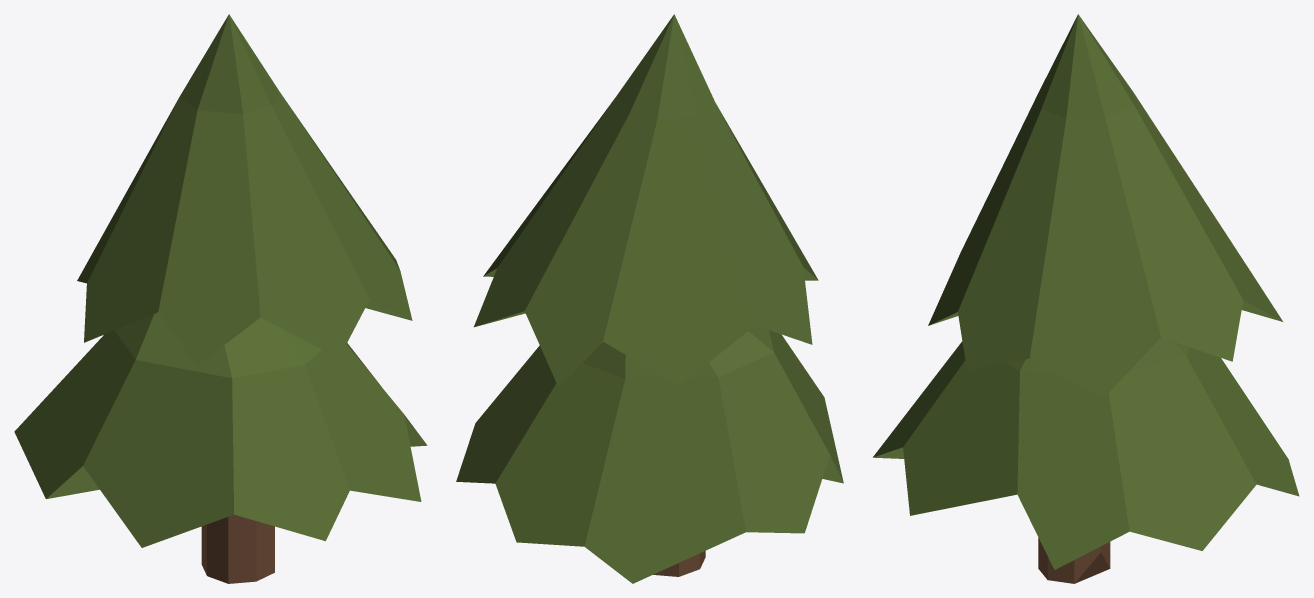
File: tree_coniferous_03.glb
The picture shows the model from 3 angles, left to right: view 1: azimuth 30°, elevation 25°; view 2: azimuth 150°, elevation 25°; view 3: azimuth 270°, elevation 25°; orthographic projection.
Visible parts, largest first — view 1: tree_04; view 2: tree_04; view 3: tree_04.
Boxes of the visible parts, box(x1,y1,x2,y2) form: tree_04: box(14, 14, 427, 583); tree_04: box(456, 14, 843, 583); tree_04: box(873, 14, 1299, 583).
Bounding box in the file's own units: 1.57 × 2.41 × 1.69.
1 material, 1 textured.
